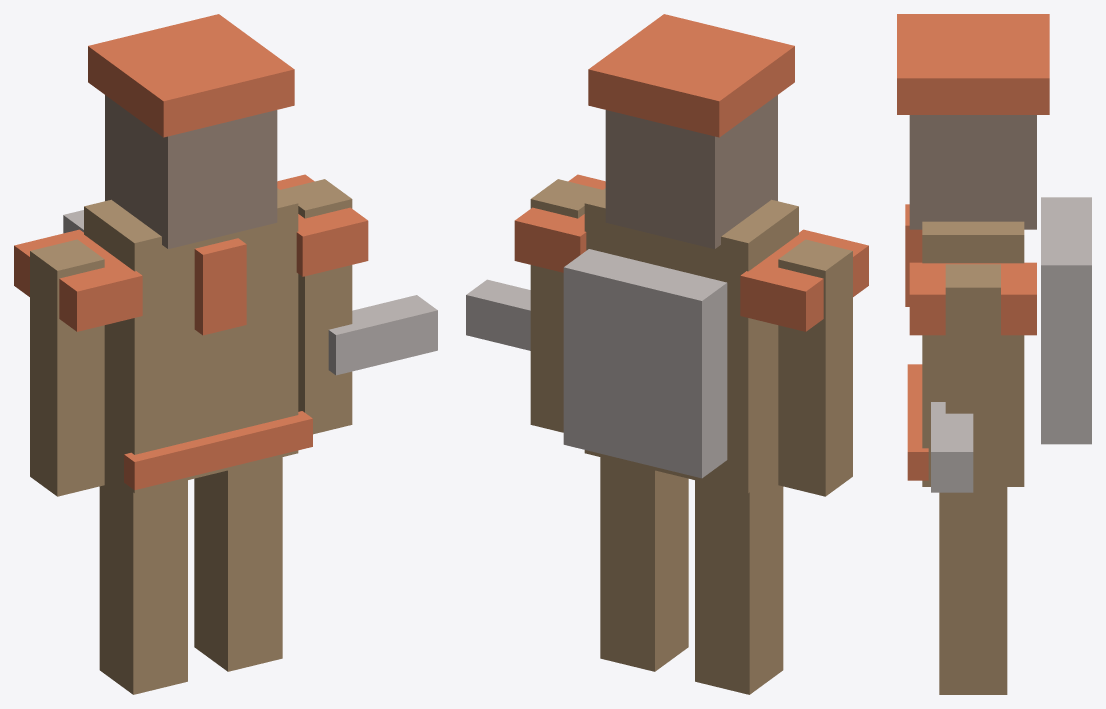
Rendered from 02_bex_cragwarden_watcher_from_echo.glb.
3 views of the same model, side by side, from view 1: azimuth 30°, elevation 25°; view 2: azimuth 150°, elevation 25°; view 3: azimuth 270°, elevation 25° (orthographic).
Visible parts, largest first — view 1: Bex Cragwarden, Watcher from Echo; view 2: Bex Cragwarden, Watcher from Echo; view 3: Bex Cragwarden, Watcher from Echo.
Boxes of the visible parts, <box> form: Bex Cragwarden, Watcher from Echo: <box>14,14,437,694</box>; Bex Cragwarden, Watcher from Echo: <box>466,14,868,694</box>; Bex Cragwarden, Watcher from Echo: <box>897,14,1091,694</box>.
Bounding box in the file's own units: 0.9542 × 1.48 × 0.4282.
